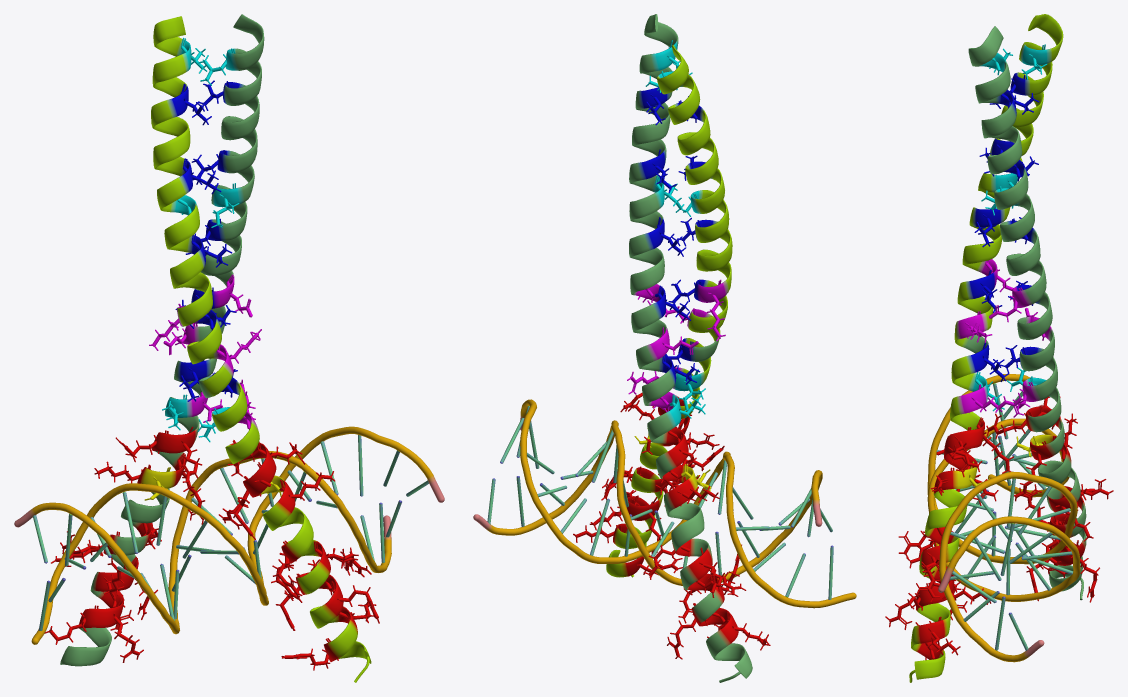
The model's file is PROTEINX.glb.
3 views of the same model, side by side, from view 1: azimuth 30°, elevation 25°; view 2: azimuth 150°, elevation 25°; view 3: azimuth 270°, elevation 25° (orthographic). The views are drawn at different scales.
Visible parts, largest first — view 1: geom1091-material, geom1092-material; view 2: geom1091-material, geom1092-material; view 3: geom1091-material, geom1092-material.
Boxes of the visible parts, left/top/right/bottom form: geom1091-material: left=60, top=14, right=369, bottom=682; geom1092-material: left=14, top=16, right=444, bottom=663; geom1091-material: left=606, top=14, right=752, bottom=682; geom1092-material: left=473, top=45, right=856, bottom=608; geom1091-material: left=909, top=26, right=1086, bottom=682; geom1092-material: left=912, top=14, right=1080, bottom=670.
Bounding box in the file's own units: 59.86 × 97.23 × 32.09.
